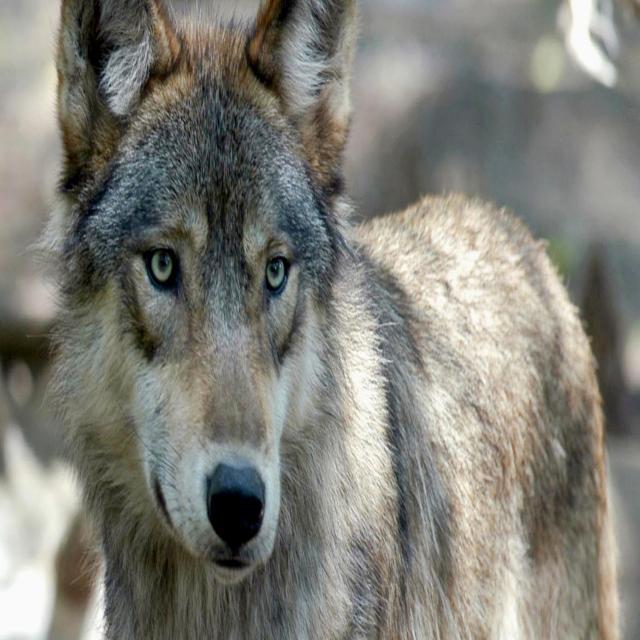wolf: (42, 0, 620, 639), (326, 345, 331, 352)
